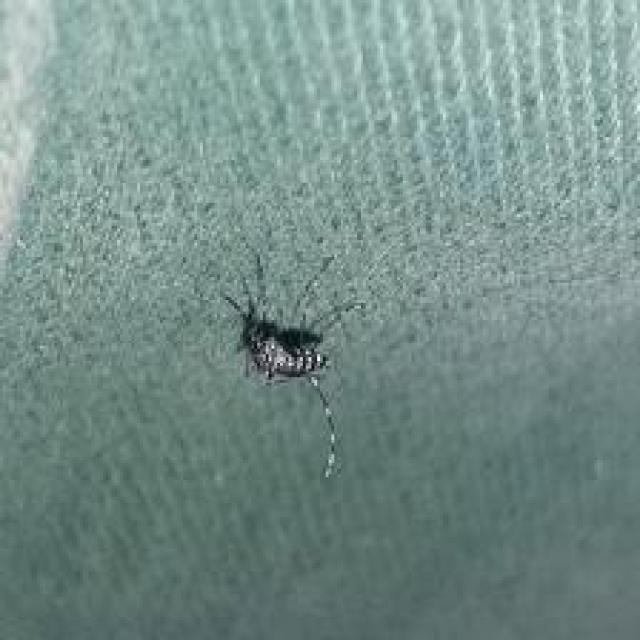Aedes albopictus: (222, 249, 367, 480)
